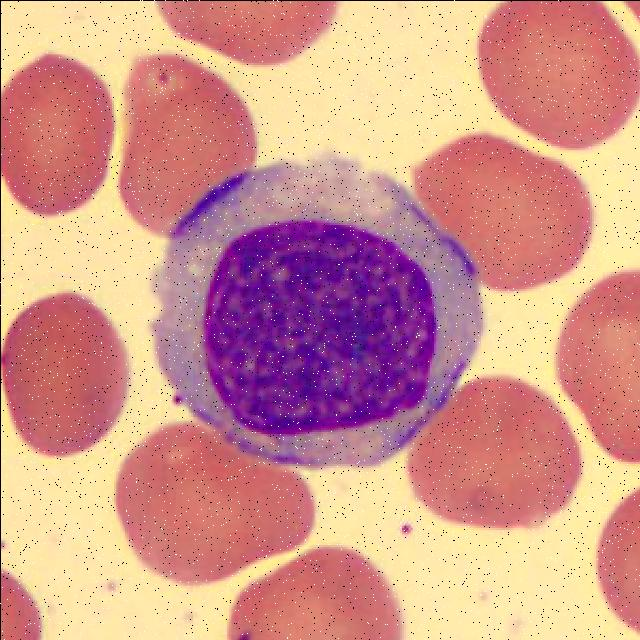White Blood Cell: (158, 161, 478, 464)
